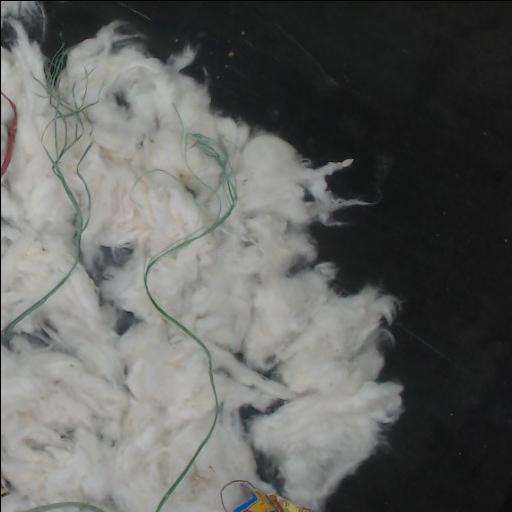conveyor belt: (45, 1, 512, 512)
cotton: (1, 16, 401, 512)
packet: (221, 479, 310, 512)
thread: (143, 133, 236, 512), (1, 83, 96, 347), (1, 92, 16, 176), (21, 502, 105, 512), (49, 50, 64, 81)
